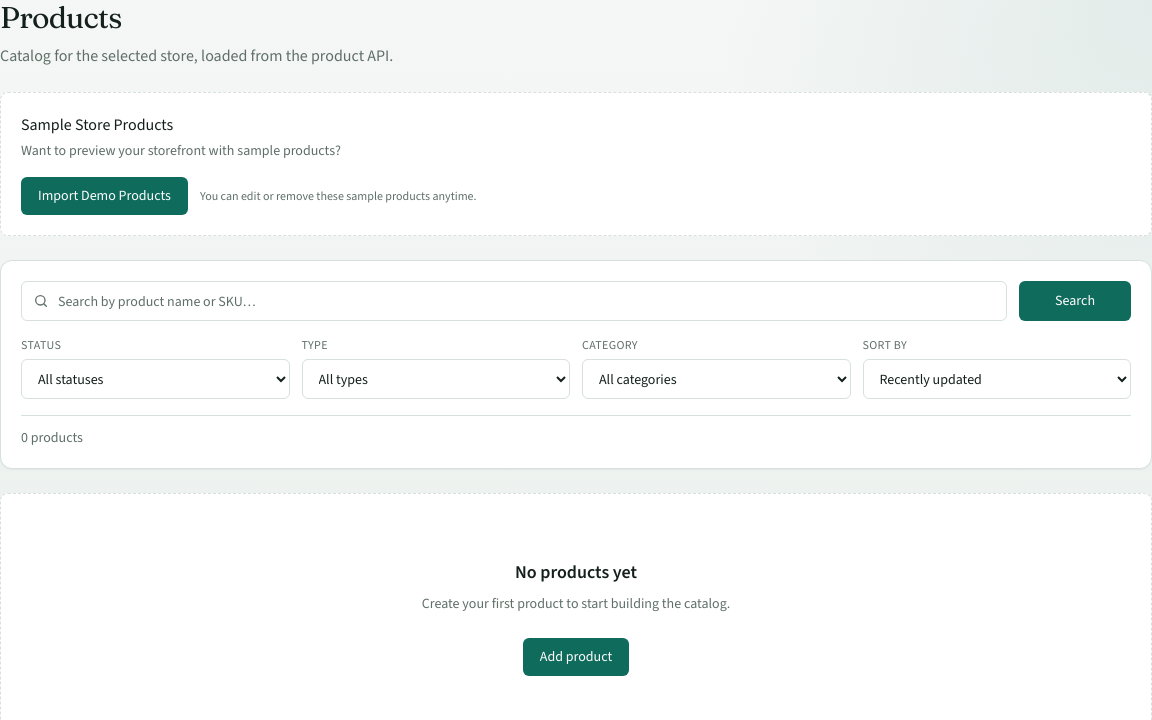
Scenario: Products page demo catalog › imports sample products from an empty store, then lists them with Sample badges
Expected: the heading "No products yet" is shown, top-left (515, 558), bottom-right (637, 586)
Click the button "Import Demo Products".
click(104, 196)  # box top-left (21, 177), bottom-right (188, 215)
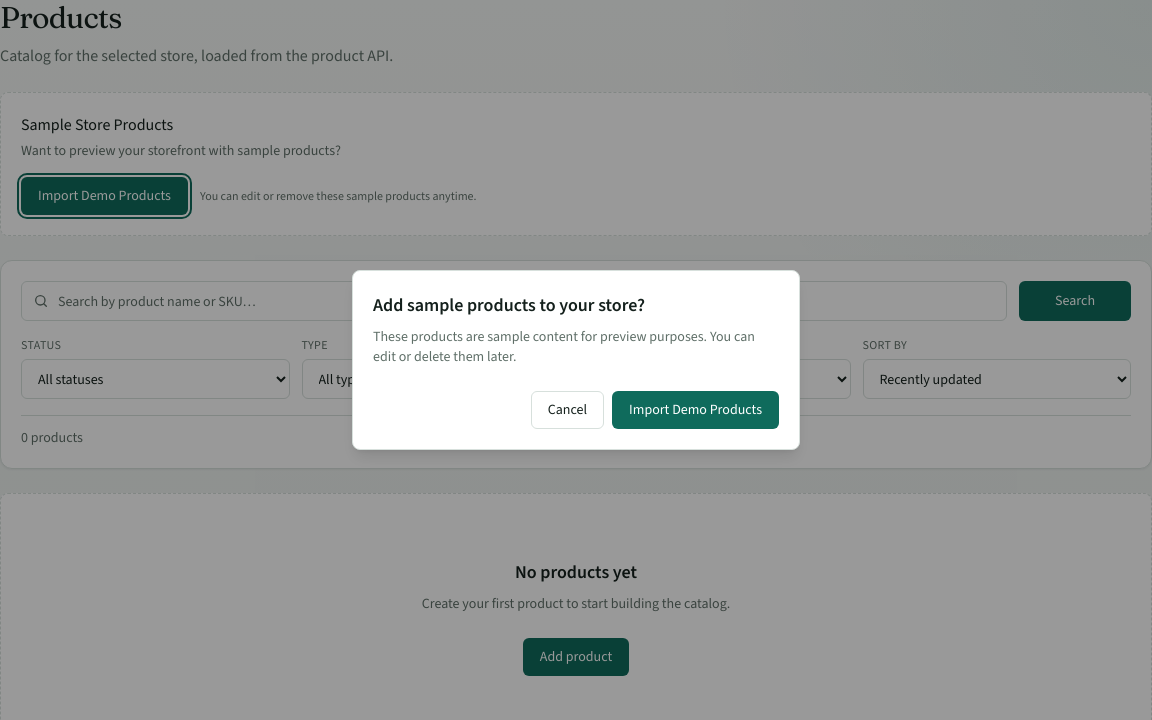
Click the button "Import Demo Products".
click(696, 410)  # box top-left (612, 391), bottom-right (779, 429)
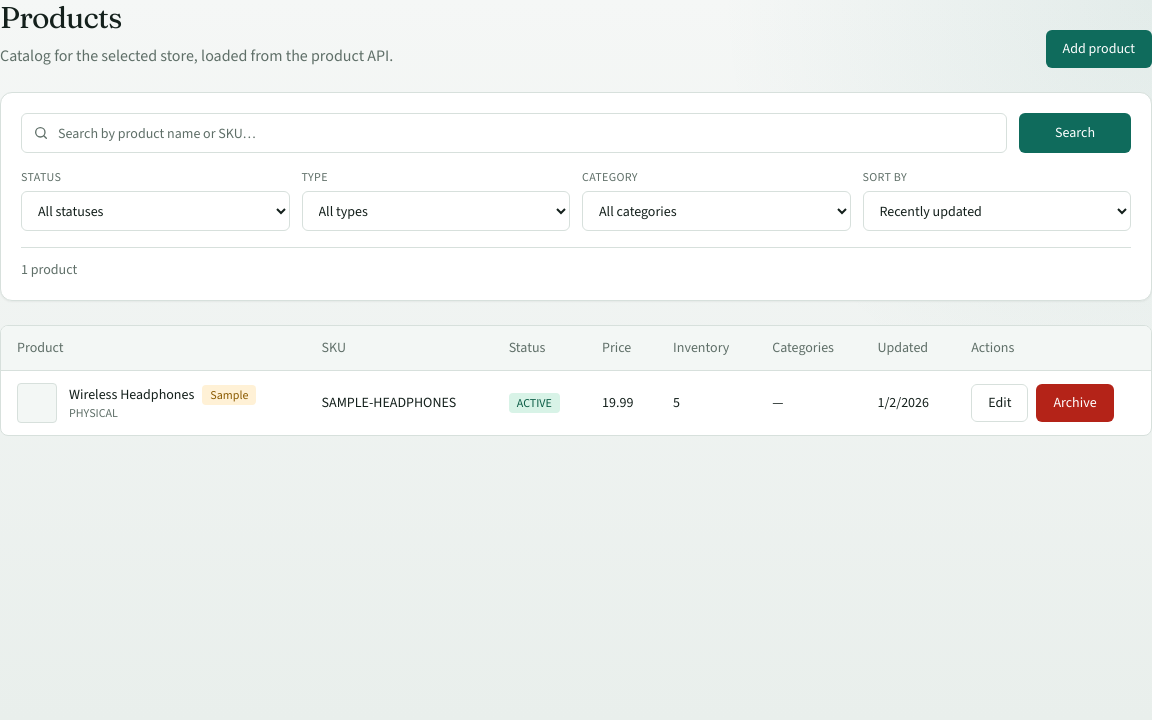
Expected: the text "Sample" is shown, top-left (202, 385), bottom-right (256, 405)
Expected: the link "Wireless Headphones" is shown, top-left (69, 385), bottom-right (194, 405)
Expected: the heading "Sample Store Products" is gone
